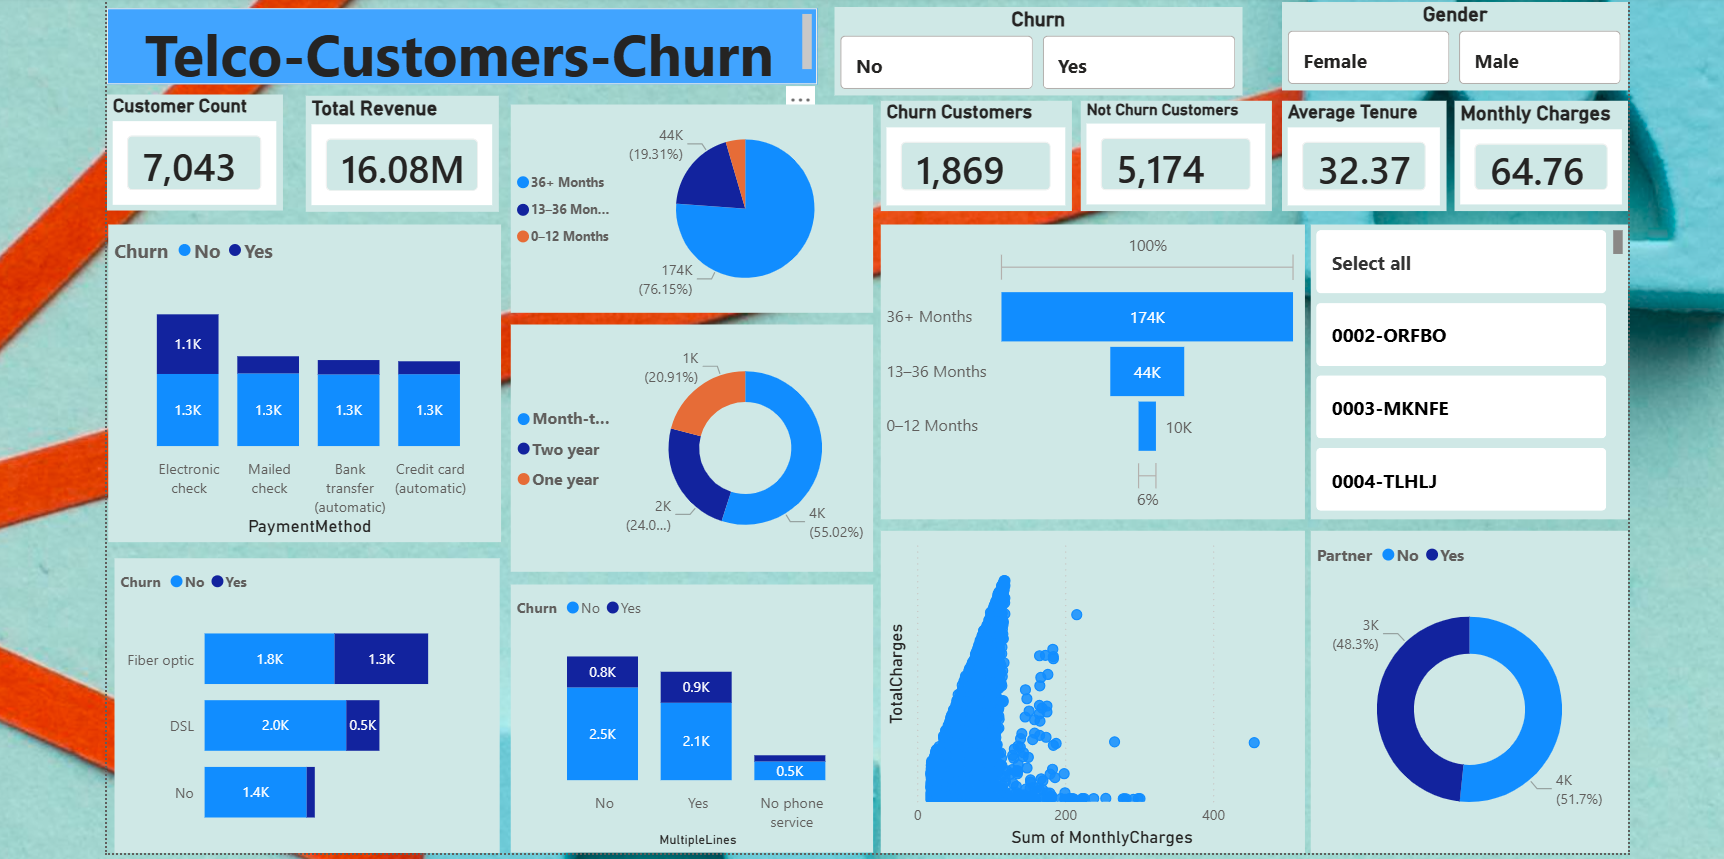

This screenshot's page, from the dashboard's own definition file:
{"tool":"powerbi","page":{"name":"Telco-Customers-Churn-Dashboard","canvas":[1280,720],"ordinal":0},"visuals":[{"type":"cardVisual","title":"Not Churn Customers","fields":{"Data":["Query1.Not Churned Customers (Full)"]},"box":[818.6,87.2,160.5,93],"z":0},{"type":"cardVisual","title":" Monthly Charges","fields":{"Data":["Query1.Avg Monthly Charges"]},"box":[1133.7,87.2,146.5,93],"z":1000},{"type":"cardVisual","title":"Churn Customers","fields":{"Data":["Query1.Churned Customers (Full)"]},"box":[651.2,87.2,160.5,93],"z":2000},{"type":"cardVisual","title":"Average Tenure","fields":{"Data":["Query1.Avg Tenure"]},"box":[988.4,87.2,138.4,93],"z":3000},{"type":"cardVisual","title":"Customer Count","fields":{"Data":["Query1.Total Customers (Full)"]},"box":[0,82.3,147.8,97.7],"z":4000},{"type":"cardVisual","title":"Total Revenue","fields":{"Data":["Query1.Total Revenue"]},"box":[167.4,82.6,162.8,97.7],"z":5000},{"type":"textbox","box":[0,9,597.7,64.3],"z":6000},{"type":"donutChart","title":"Contract Distribution","fields":{"Category":["Telco_Customer_Churn_Dataset  (.Contract"],"Y":["Query1.Customer Count"]},"box":[339.5,275.6,304.7,208.1],"z":7000},{"type":"barChart","fields":{"Category":["Telco_Customer_Churn_Dataset  (.InternetService"],"Series":["Telco_Customer_Churn_Dataset  (.Churn"],"Y":["Query1.Customer Count"]},"box":[6.4,471.7,323.9,248.1],"z":8000},{"type":"advancedSlicerVisual","fields":{"Values":["Telco_Customer_Churn_Dataset  (.Churn"]},"box":[611.6,8.1,343,74.4],"z":9000},{"type":"advancedSlicerVisual","title":"Gender","fields":{"Values":["Telco_Customer_Churn_Dataset  (.gender"]},"box":[988.3,4.2,291.2,74.6],"z":10000},{"type":"columnChart","fields":{"Y":["Query1.Customer Count"],"Category":["Telco_Customer_Churn_Dataset  (.PaymentMethod"],"Series":["Telco_Customer_Churn_Dataset  (.Churn"]},"box":[1.3,191.5,330.3,267.4],"z":11000},{"type":"pieChart","title":"Tenure Distribution","fields":{"Category":["Telco_Customer_Churn_Dataset  (.Tenure Group"],"Y":["Sum(Telco_Customer_Churn_Dataset  (.tenure)"]},"box":[339.5,90.7,304.7,175.6],"z":12000},{"type":"columnChart","fields":{"Category":["Telco_Customer_Churn_Dataset  (.MultipleLines"],"Y":["Query1.Customer Count"],"Series":["Telco_Customer_Churn_Dataset  (.Churn"]},"box":[339.5,494.2,304.7,225.6],"z":13000},{"type":"funnel","fields":{"Y":["Sum(Telco_Customer_Churn_Dataset  (.tenure)"],"Category":["Telco_Customer_Churn_Dataset  (.Tenure Group"]},"box":[651.2,191.9,357,247.7],"z":14000},{"type":"donutChart","fields":{"Category":["Telco_Customer_Churn_Dataset  (.Partner"],"Y":["Query1.Customer Count"]},"box":[1012.8,448.8,267.4,270.9],"z":15000},{"type":"scatterChart","fields":{"X":["Sum(Telco_Customer_Churn_Dataset  (.MonthlyCharges)"],"Y":["Telco_Customer_Churn_Dataset  (.TotalCharges"]},"box":[651.2,448.8,357,270.9],"z":16000},{"type":"advancedSlicerVisual","fields":{"Values":["Telco_Customer_Churn_Dataset  (.customerID"]},"box":[1012.8,191.9,267.4,247.7],"z":17000}]}

Visuals, with their boxes in screenshot pixels (x1, y1, x2, y2):
"Not Churn Customers" cardVisual: <box>1078,98,1267,207</box>
" Monthly Charges" cardVisual: <box>1448,98,1620,207</box>
"Churn Customers" cardVisual: <box>882,98,1070,207</box>
"Average Tenure" cardVisual: <box>1278,98,1440,207</box>
"Customer Count" cardVisual: <box>117,92,290,207</box>
"Total Revenue" cardVisual: <box>313,93,505,207</box>
textbox: <box>117,6,819,82</box>
"Contract Distribution" donutChart: <box>515,319,873,564</box>
barChart - Telco_Customer_Churn_Dataset  (.InternetService x Telco_Customer_Churn_Dataset  (.Churn: <box>124,550,505,841</box>
advancedSlicerVisual - Telco_Customer_Churn_Dataset  (.Churn: <box>835,5,1238,92</box>
"Gender" advancedSlicerVisual: <box>1278,0,1620,88</box>
columnChart - Query1.Customer Count x Telco_Customer_Churn_Dataset  (.PaymentMethod: <box>118,220,506,534</box>
"Tenure Distribution" pieChart: <box>515,102,873,308</box>
columnChart - Telco_Customer_Churn_Dataset  (.MultipleLines x Query1.Customer Count: <box>515,576,873,841</box>
funnel - Sum(Telco_Customer_Churn_Dataset  (.tenure) x Telco_Customer_Churn_Dataset  (.Tenure Group: <box>882,221,1301,512</box>
donutChart - Telco_Customer_Churn_Dataset  (.Partner x Query1.Customer Count: <box>1306,523,1620,841</box>
scatterChart - Sum(Telco_Customer_Churn_Dataset  (.MonthlyCharges) x Telco_Customer_Churn_Dataset  (.TotalCharges: <box>882,523,1301,841</box>
advancedSlicerVisual - Telco_Customer_Churn_Dataset  (.customerID: <box>1306,221,1620,512</box>
